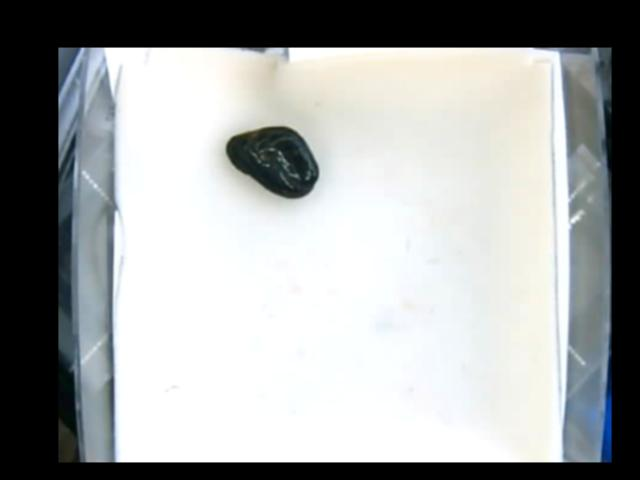Pebble: (225, 126, 320, 197)
